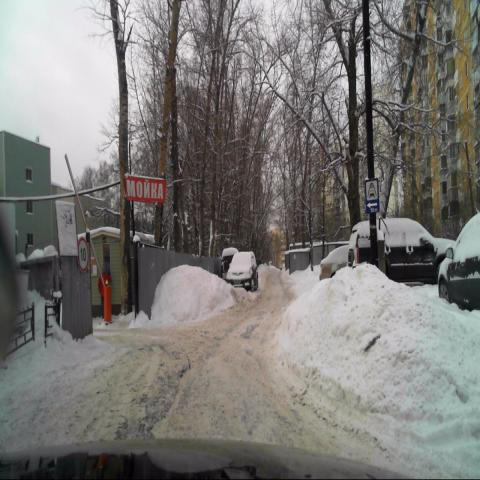7_5: (365, 179, 379, 212)
